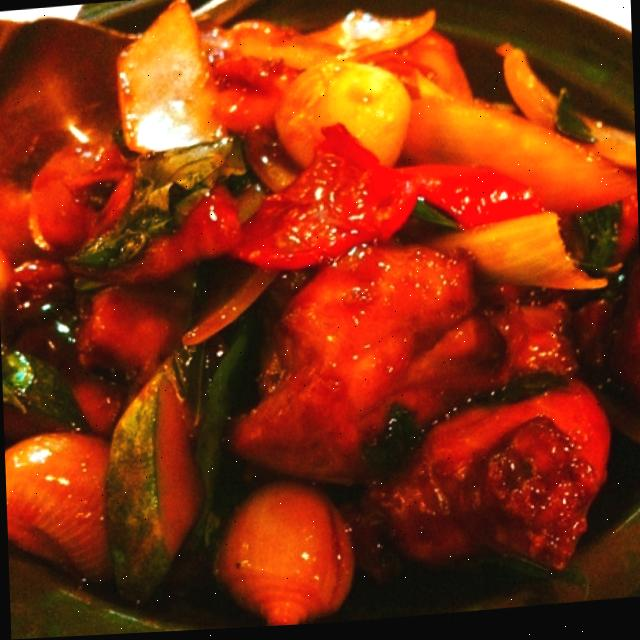鸡肉料理 含炸鸡: (21, 0, 640, 639)
